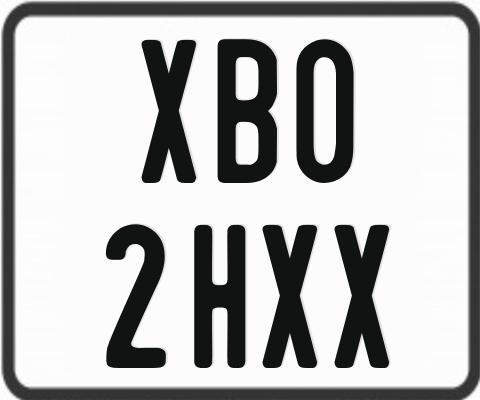0: (295, 38, 353, 182)
2: (106, 223, 167, 371)
B: (217, 39, 280, 184)
H: (194, 224, 246, 373)
X: (263, 223, 319, 369), (334, 224, 388, 373), (139, 37, 193, 180)
